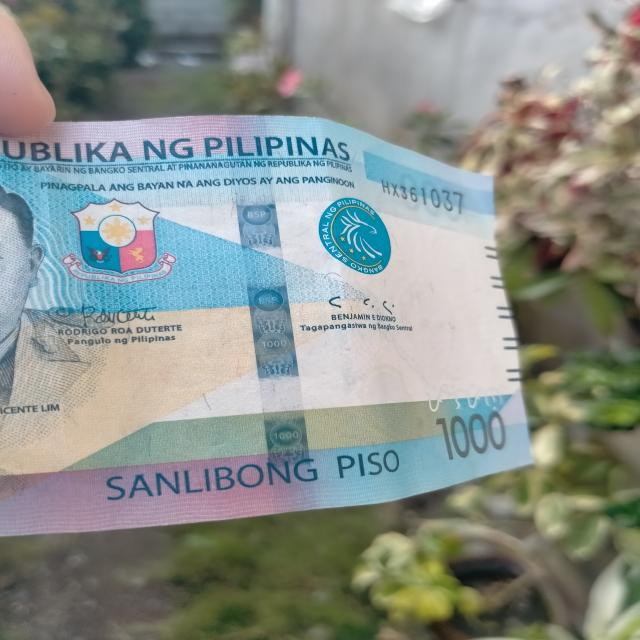security_thread: (218, 115, 317, 510)
see_through_mark: (411, 383, 520, 416)
serial_number: (369, 173, 476, 220)
